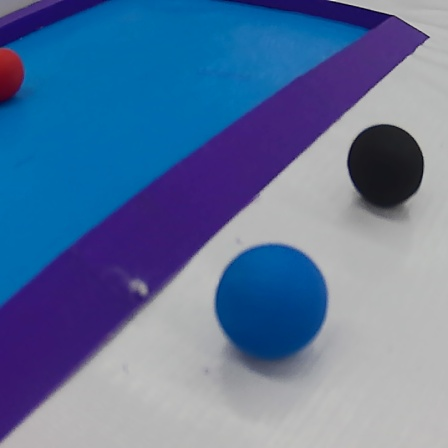black: (344, 123, 428, 215)
blue: (211, 234, 331, 368)
blue_aim: (3, 0, 432, 444)
red: (0, 37, 33, 103)
